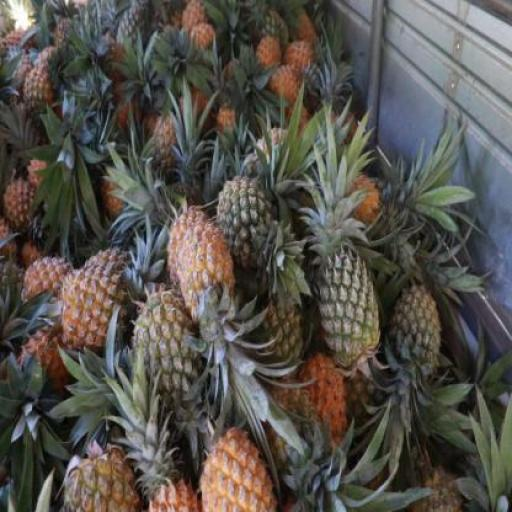------------------------------: (135, 290, 206, 399), (216, 174, 280, 273), (64, 443, 135, 512), (24, 68, 56, 126)
Pineapple - v8 v1: (62, 256, 132, 356), (197, 428, 276, 511), (180, 220, 240, 322), (166, 207, 216, 296), (24, 257, 72, 318), (3, 176, 41, 230)
